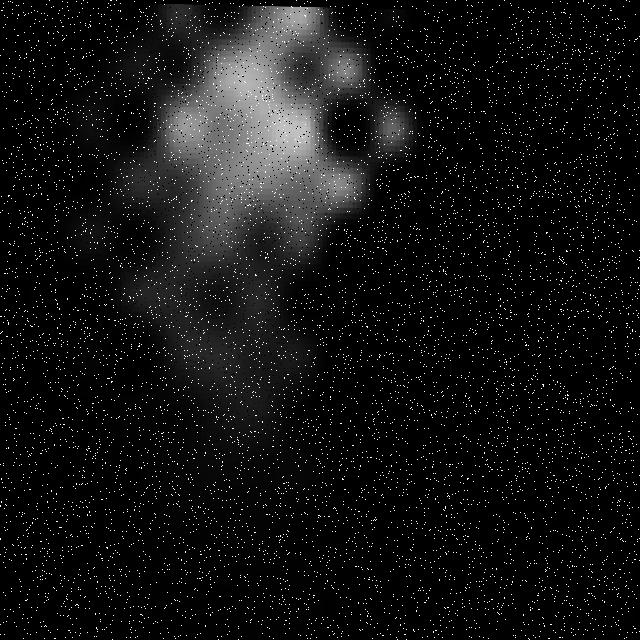person: (97, 3, 441, 483)
